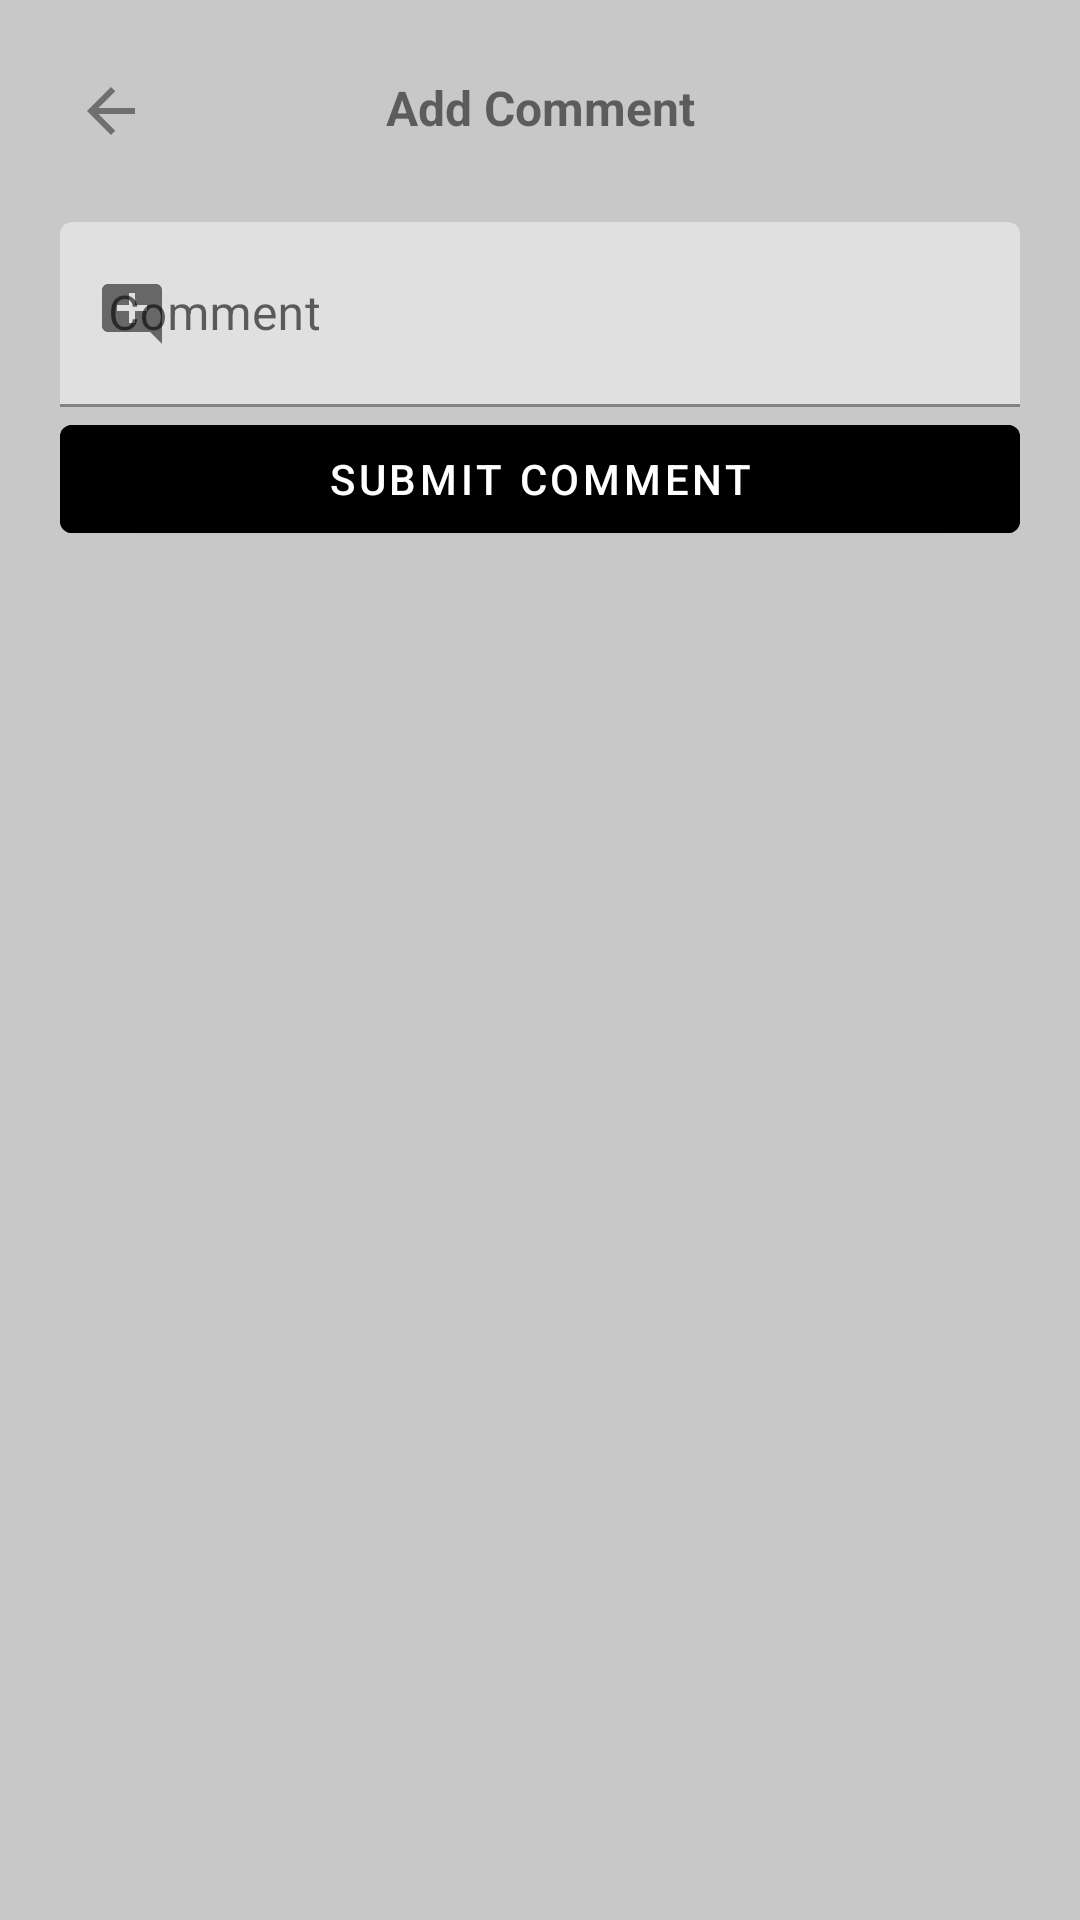

Locate icon controls on the screen. Image size 1080w x 1920h, boxes as BBox(x1, y1, x2, y2).
back: BBox(87, 87, 135, 135)
